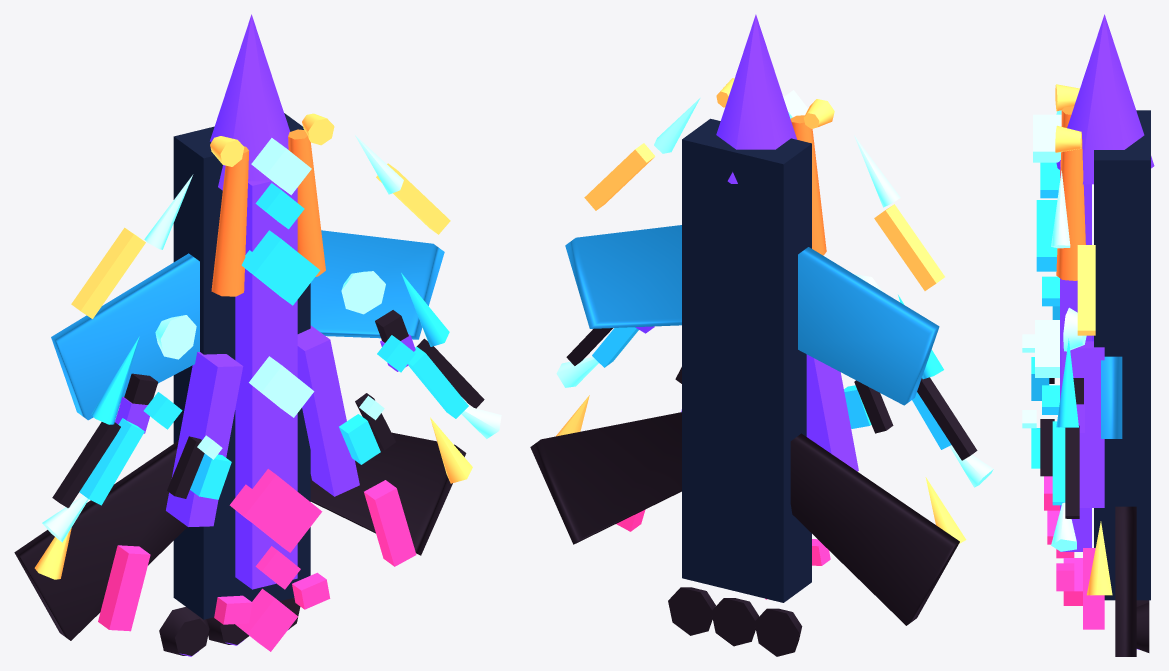
The model's file is boss-03.glb.
3 views of the same model, side by side, from view 1: azimuth 30°, elevation 25°; view 2: azimuth 150°, elevation 25°; view 3: azimuth 270°, elevation 25° (orthographic). The views are drawn at different scales.
Parts seen in each view (by area): view 1: long_black_keel, raised_energy_spine, left_rear_blade, left_forward_blade, right_forward_blade, right_rear_blade, right_spine_fin, needle_command_nose, left_spine_fin, rear_prism_core, split_forward_cannon_l, front_prism_core (+39 smaller); view 2: long_black_keel, left_rear_blade, left_forward_blade, right_rear_blade, right_forward_blade, needle_command_nose, left_spine_fin, left_crown_petal_emitter, engine_nozzle_-0.28, engine_nozzle_0.28, engine_nozzle_0.00, left_phase_curtain_outer_frame (+12 smaller); view 3: long_black_keel, needle_command_nose, right_spine_fin, right_rear_blade, split_forward_cannon_r, raised_energy_spine, right_forward_blade, right_crown_petal_emitter, middle_spine_lens, front_prism_core, right_phase_curtain_outer_frame, center_crown_prism (+23 smaller).
Boxes of the visible parts, box(x1,y1,x2,y2) form: long_black_keel: box(173, 113, 310, 619); raised_energy_spine: box(235, 181, 297, 589); left_rear_blade: box(14, 440, 187, 640); left_forward_blade: box(51, 253, 199, 420); right_forward_blade: box(310, 230, 444, 339); right_rear_blade: box(310, 432, 466, 555); right_spine_fin: box(297, 325, 359, 496); needle_command_nose: box(210, 14, 290, 190); left_spine_fin: box(166, 352, 243, 526); rear_prism_core: box(229, 469, 322, 552); split_forward_cannon_l: box(211, 146, 249, 296); front_prism_core: box(241, 230, 320, 305); long_black_keel: box(682, 118, 811, 602); left_rear_blade: box(790, 433, 959, 625); left_forward_blade: box(798, 247, 939, 405); right_rear_blade: box(530, 412, 681, 544); right_forward_blade: box(565, 225, 681, 328); needle_command_nose: box(716, 14, 796, 183); left_spine_fin: box(806, 354, 858, 471); left_crown_petal_emitter: box(874, 204, 944, 290); engine_nozzle_-0.28: box(754, 608, 802, 656); engine_nozzle_0.28: box(668, 587, 715, 635); engine_nozzle_0.00: box(711, 598, 758, 646); left_phase_curtain_outer_frame: box(917, 377, 977, 460); long_black_keel: box(1094, 110, 1150, 600); needle_command_nose: box(1056, 14, 1154, 184); right_spine_fin: box(1061, 341, 1104, 507); right_rear_blade: box(1115, 506, 1136, 656); split_forward_cannon_r: box(1056, 139, 1085, 280); raised_energy_spine: box(1060, 160, 1091, 551); right_forward_blade: box(1101, 356, 1122, 438); right_crown_petal_emitter: box(1077, 245, 1095, 335); middle_spine_lens: box(1035, 320, 1059, 377); front_prism_core: box(1036, 200, 1057, 271); right_phase_curtain_outer_frame: box(1065, 425, 1079, 518); center_crown_prism: box(1033, 114, 1061, 162).
Size of the model in its own units: 2.8 by 3.82 by 0.74.
